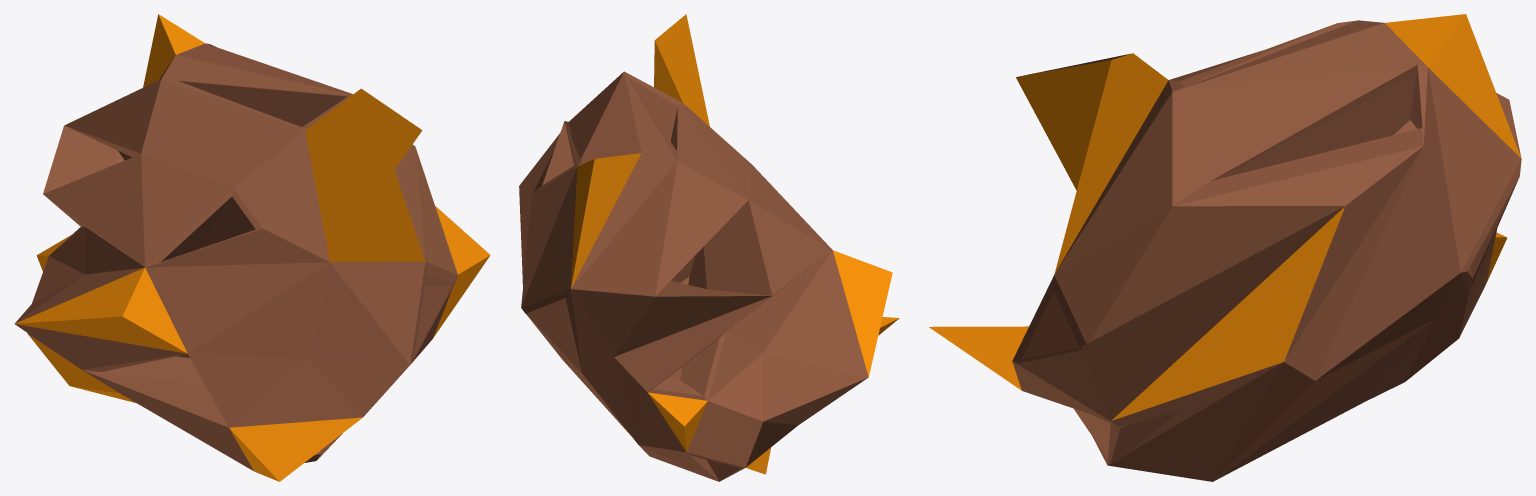
File: AsteroidCristall3.fbx
The picture shows the model from 3 angles, left to right: view 1: azimuth 30°, elevation 25°; view 2: azimuth 150°, elevation 25°; view 3: azimuth 270°, elevation 25°; orthographic projection. The views are drawn at different scales.
Parts seen in each view (by area): view 1: AsteroidCristall3; view 2: AsteroidCristall3; view 3: AsteroidCristall3.
Part boxes in pixels (x1,y1,x2,y2): AsteroidCristall3: (14, 14, 490, 481); AsteroidCristall3: (519, 14, 899, 481); AsteroidCristall3: (929, 14, 1521, 481).
Size of the model in its own units: 8.76 by 7.58 by 9.13.
